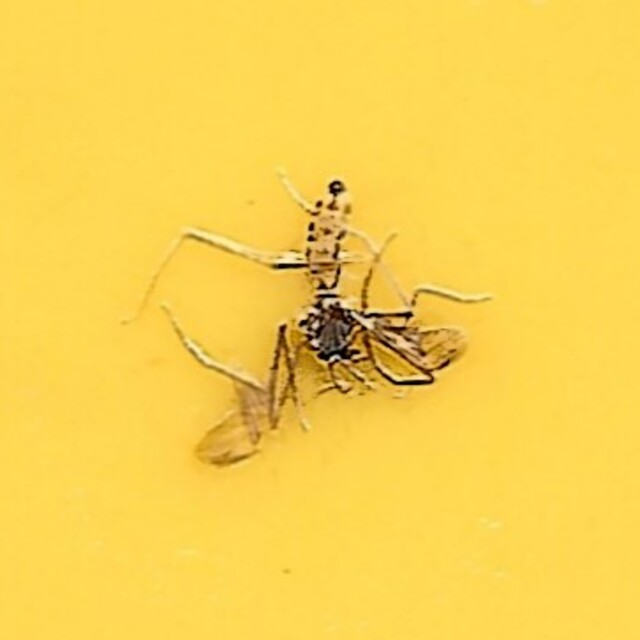Nematocera: (176, 171, 464, 469)
